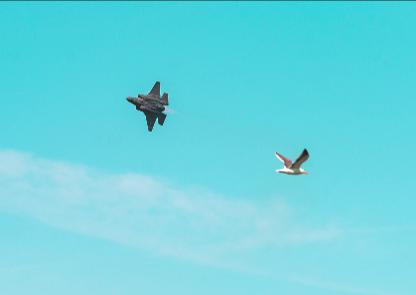F22: (126, 80, 168, 131)
